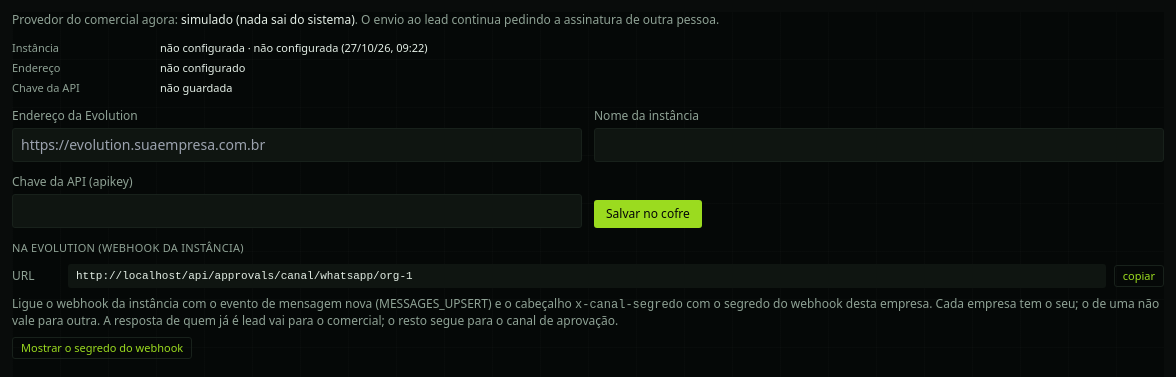
it: o cartão da Evolution › Produção 22: o segredo do webhook desta empresa só aparece a pedido de quem administra, e some ao esconder
Expected: the text "http://localhost/api/approvals/canal/whatsapp/org-1" is shown, top-left (68, 264), bottom-right (1106, 288)
Expected: the text "a1b2c3d4e5f60718293a4b5c6d7e8f90a1b2c3d4e5f60718293a4b5c6d7e8f9" is not shown
Click the button with test id "mostrar-segredo-evolution".
click(102, 348)  # box top-left (12, 337), bottom-right (192, 359)
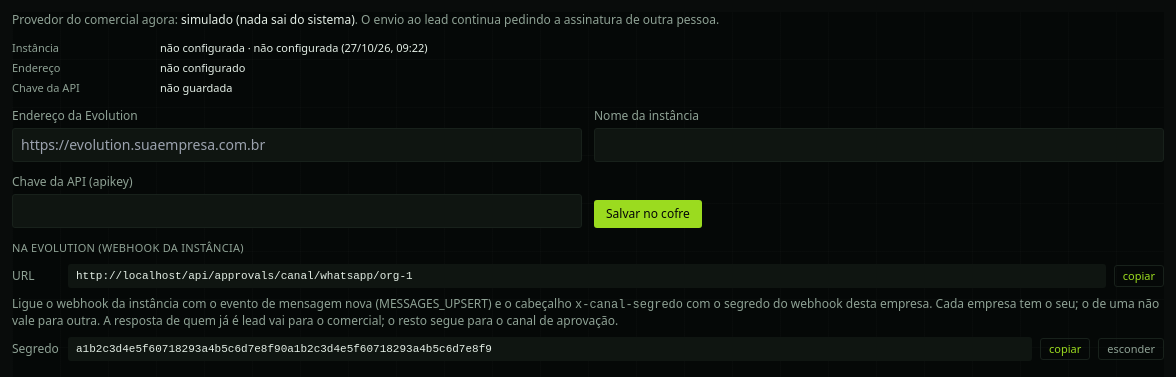
Result: the element with test id "segredo-do-webhook-evolution" shows "a1b2c3d4e5f60718293a4b5c6d7e8f90a1b2c3d4e5f60718293a4b5c6d7e8f9" at top-left (76, 343), bottom-right (492, 355)
Click the button "esconder".
click(1131, 349)  # box top-left (1098, 338), bottom-right (1164, 360)
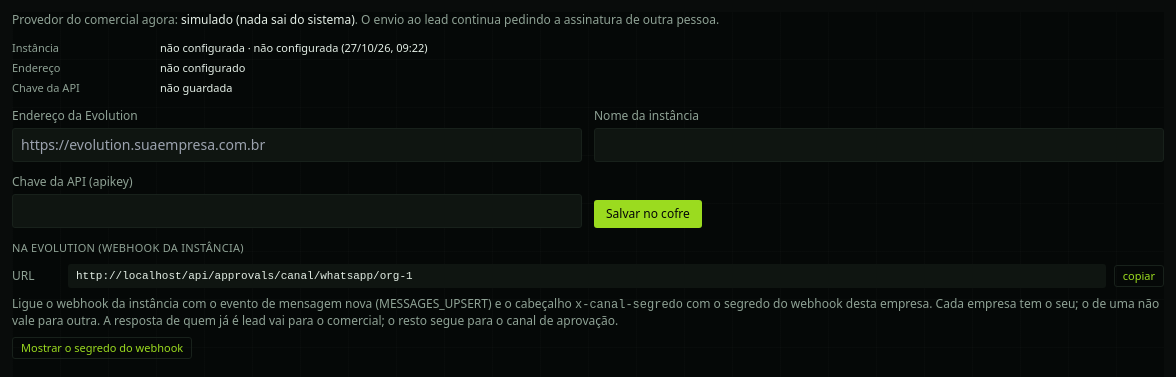
Result: the text "a1b2c3d4e5f60718293a4b5c6d7e8f90a1b2c3d4e5f60718293a4b5c6d7e8f9" is gone
